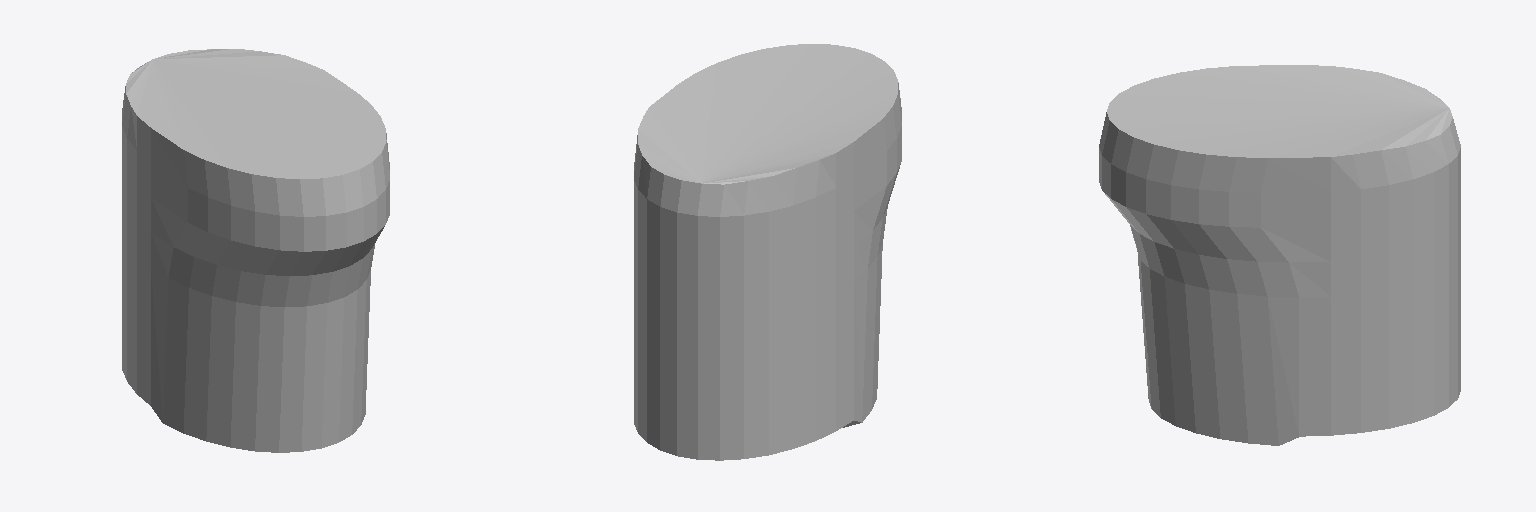
The model's file is Tartaruga-pataFE.obj.
3 renders of one model, left to right at view 1: azimuth 30°, elevation 25°; view 2: azimuth 150°, elevation 25°; view 3: azimuth 270°, elevation 25°, orthographic.
Visible parts, largest first — view 1: Tartaruga-pataFE_Cylinder.002; view 2: Tartaruga-pataFE_Cylinder.002; view 3: Tartaruga-pataFE_Cylinder.002.
Boxes of the visible parts, <box> form: Tartaruga-pataFE_Cylinder.002: <box>122,49,389,452</box>; Tartaruga-pataFE_Cylinder.002: <box>634,44,901,460</box>; Tartaruga-pataFE_Cylinder.002: <box>1099,65,1460,445</box>.
Bounding box in the file's own units: 0.2912 × 0.421 × 0.4782.